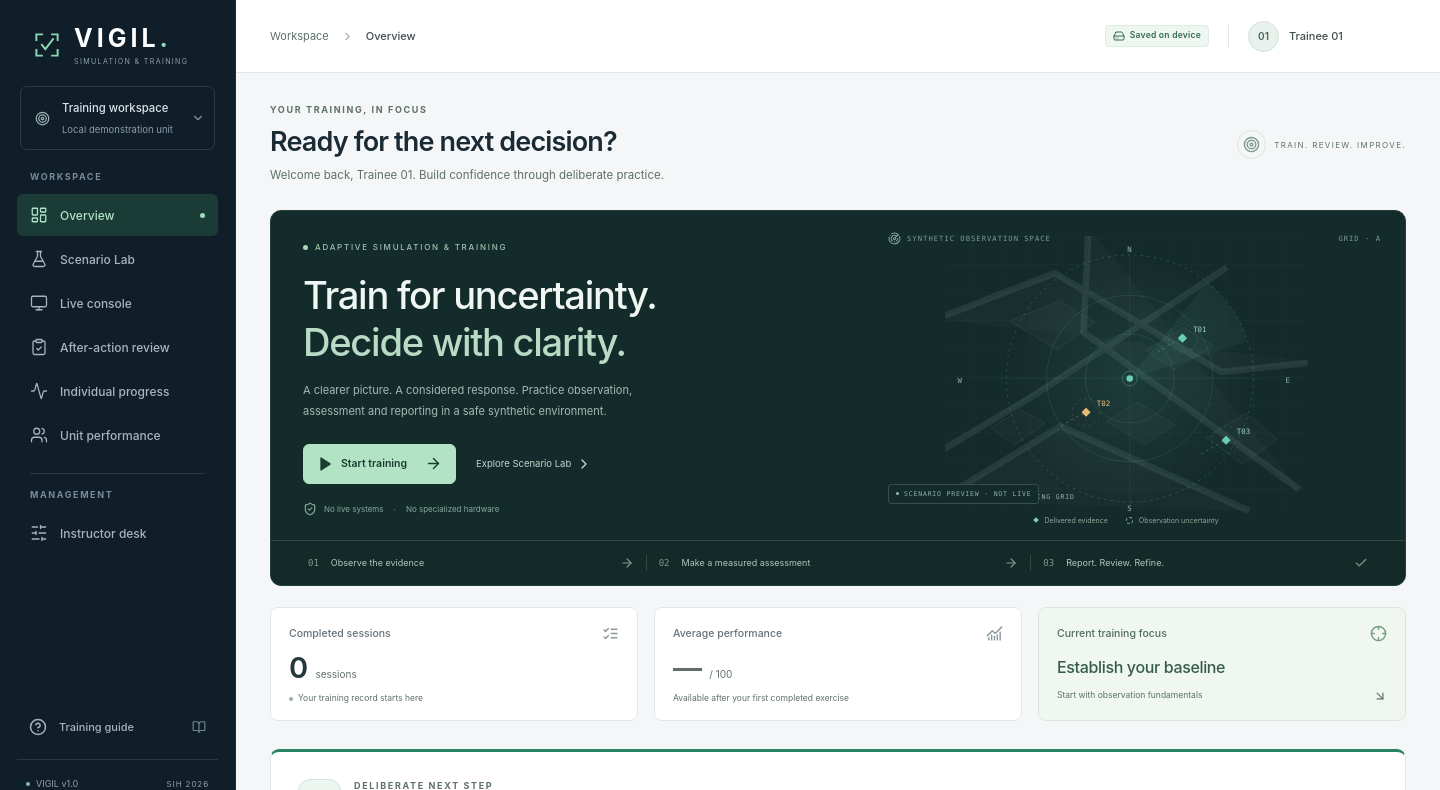
Phase 1 navigation and foundation › navigates to Live console and marks the active navigation item
Step 1. Click the button "Live console" → (118, 303), box left=17, top=282, right=218, bottom=324
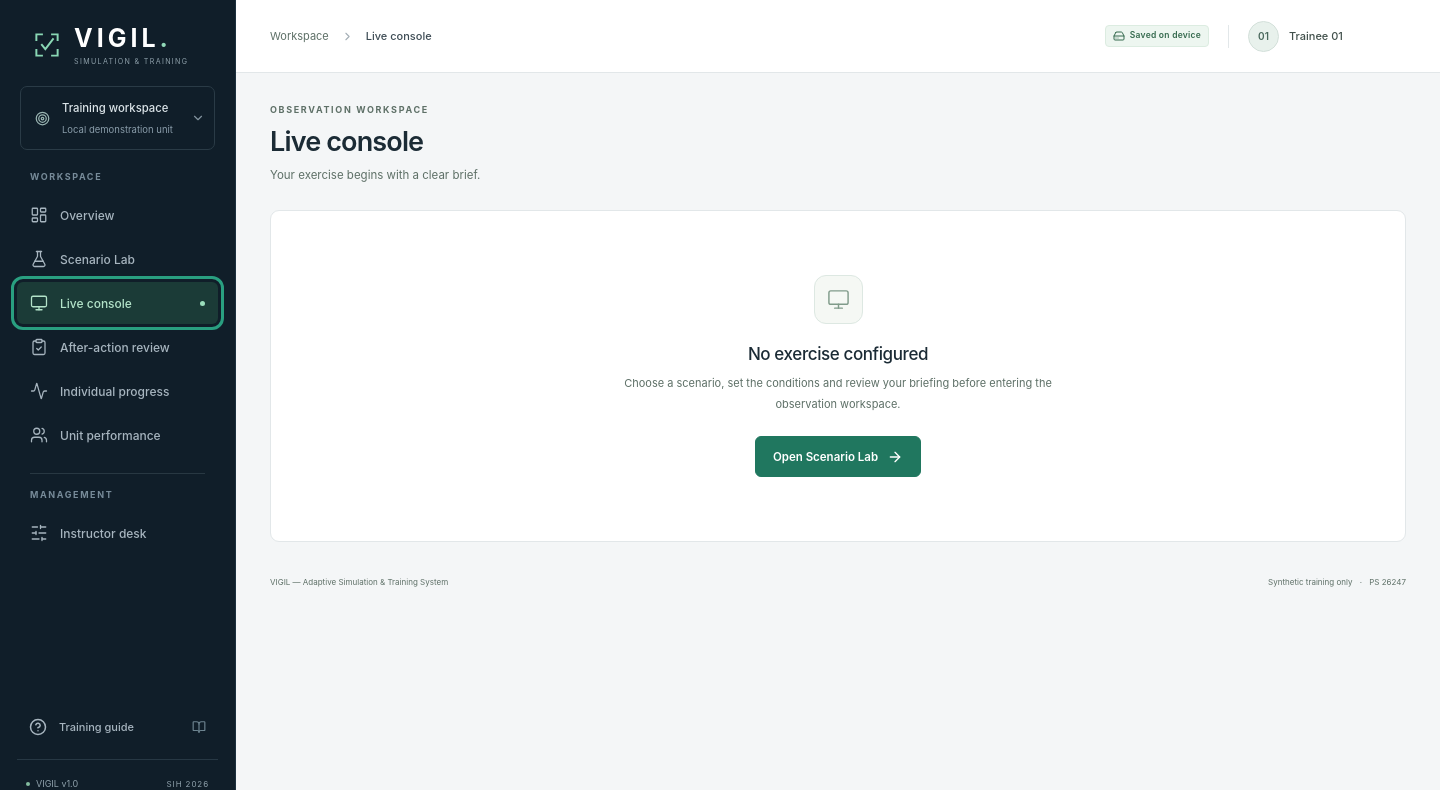
Expected: the heading "Live console" is shown, left=270, top=125, right=423, bottom=158
